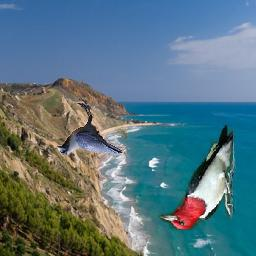Crow: (57, 97, 127, 155)
Woodpecker: (158, 126, 237, 231)
